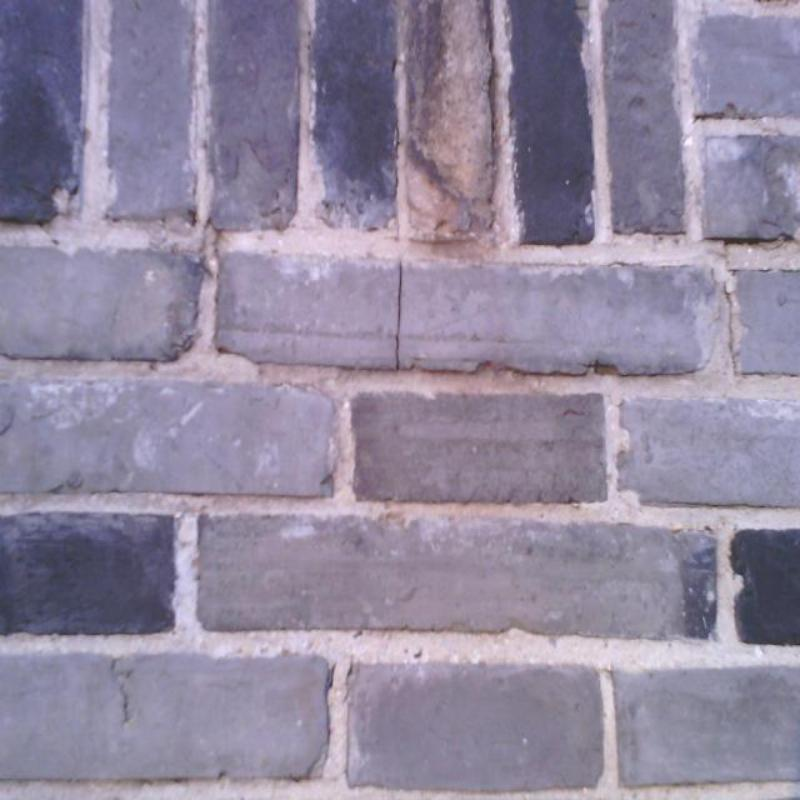pothole: (394, 261, 403, 372)
